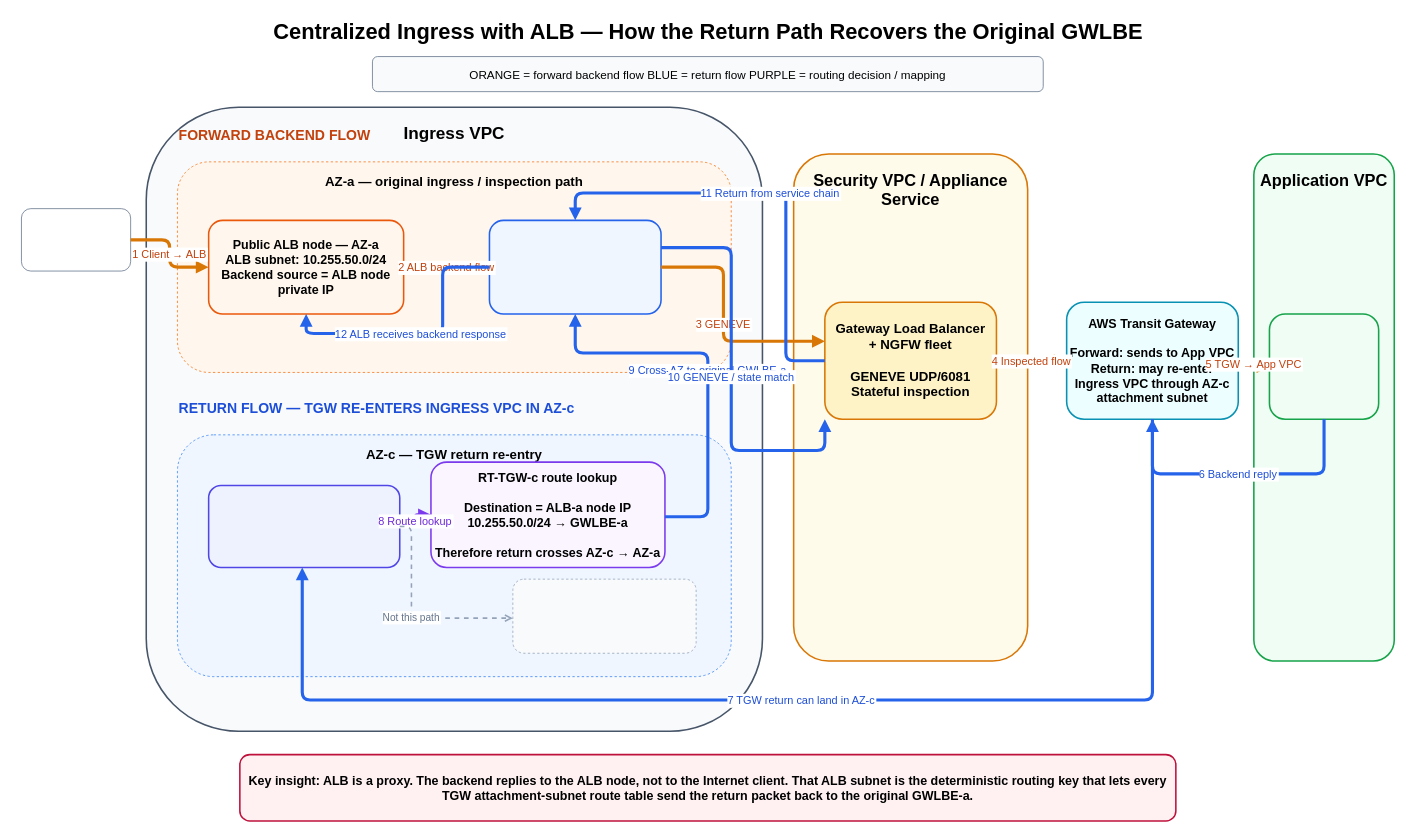
The diagram is 1409 pixels wide and 835 high, and some of its shapes have lost their labels. The centre of each missing label's shape, as x and y in pixels:
"Backend 10.10.10.20:8443 Return destination = ALB-a node private IP" belongs at (x=1323, y=366).
"GWLBE-a vpce-gwlbe-a Original service-chain endpoint" belongs at (x=574, y=266).
"GWLBE-c vpce-gwlbe-c Local endpoint — NOT selected for this return flow" belongs at (x=604, y=615).
"Internet client 198.51.100.25:53000" belongs at (x=76, y=239).
"TGW attachment subnet — AZ-c Return packet lands here from TGW" belongs at (x=303, y=526).
